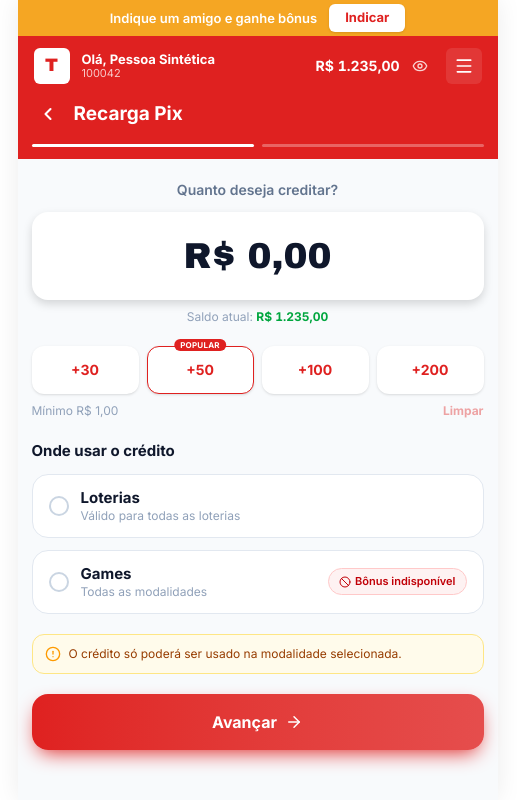
Test: RechargePage: valor e destino › não avança sem valor mínimo nem destino; erro some ao corrigir
What coordinates should you click on to do the following:
click the button "Avançar"
I would click on:
 (258, 722)
Its box is [32,694,484,750].
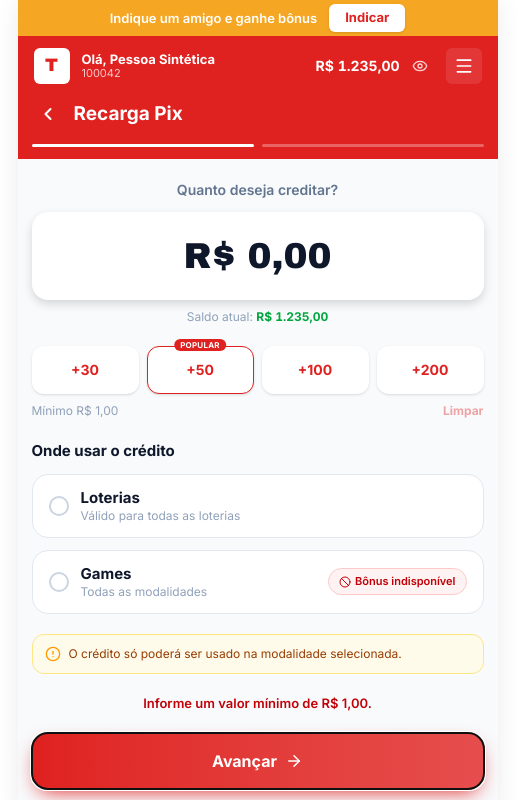
Expected: the message reads "Informe um valor mínimo de R$ 1,00.", [143,694,372,710]
What coordinates should you click on to do the following:
click the button named "Adicionar R$ 30,00"
I would click on:
 (85, 370)
Its box is [32,346,138,394].
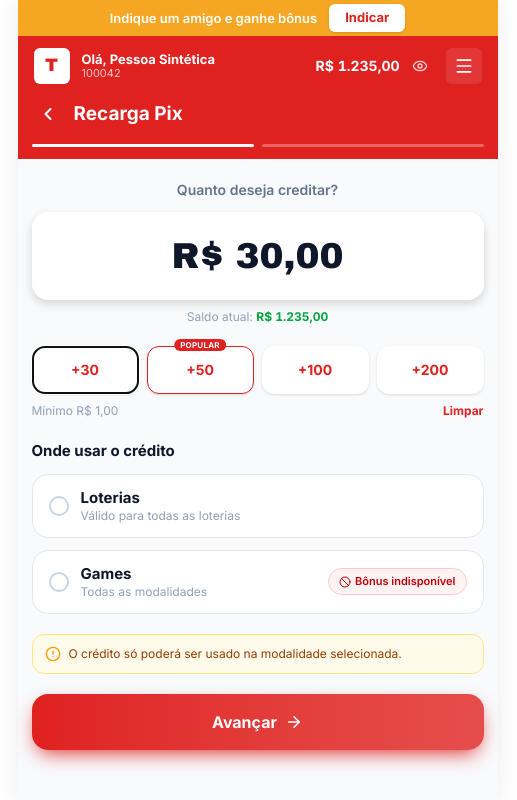
Expected: the message "Informe um valor mínimo de R$ 1,00." is gone
What coordinates should you click on to do the following:
click the button "Avançar"
I would click on:
 (258, 722)
Its box is [32,694,484,750].
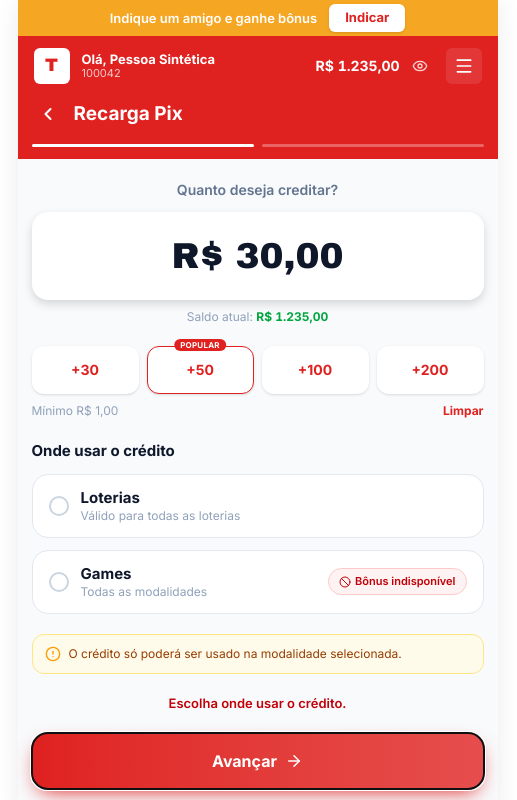
Expected: the message reads "Escolha onde usar o crédito.", [168,694,346,710]
What coordinates should you click on to do the following:
click the radio button labelled "Loterias Válido para todas as loterias"
I would click on:
 (110, 498)
Its box is [32,474,484,538].
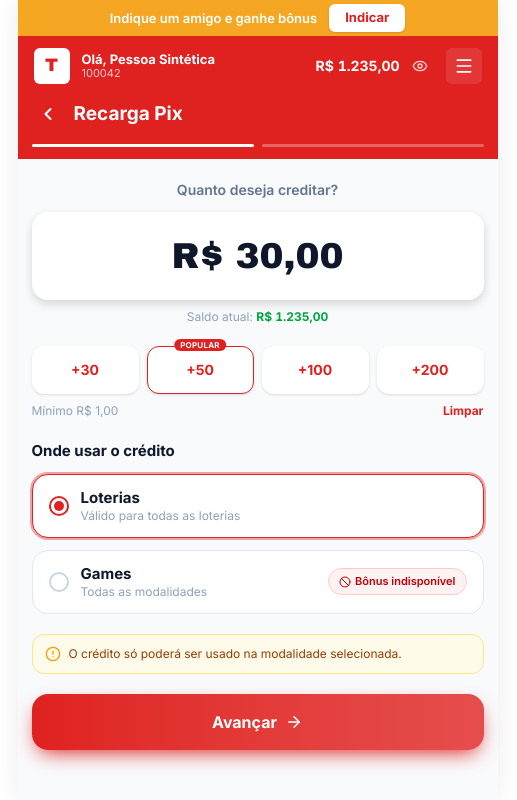
Expected: the message "Escolha onde usar o crédito." is gone
